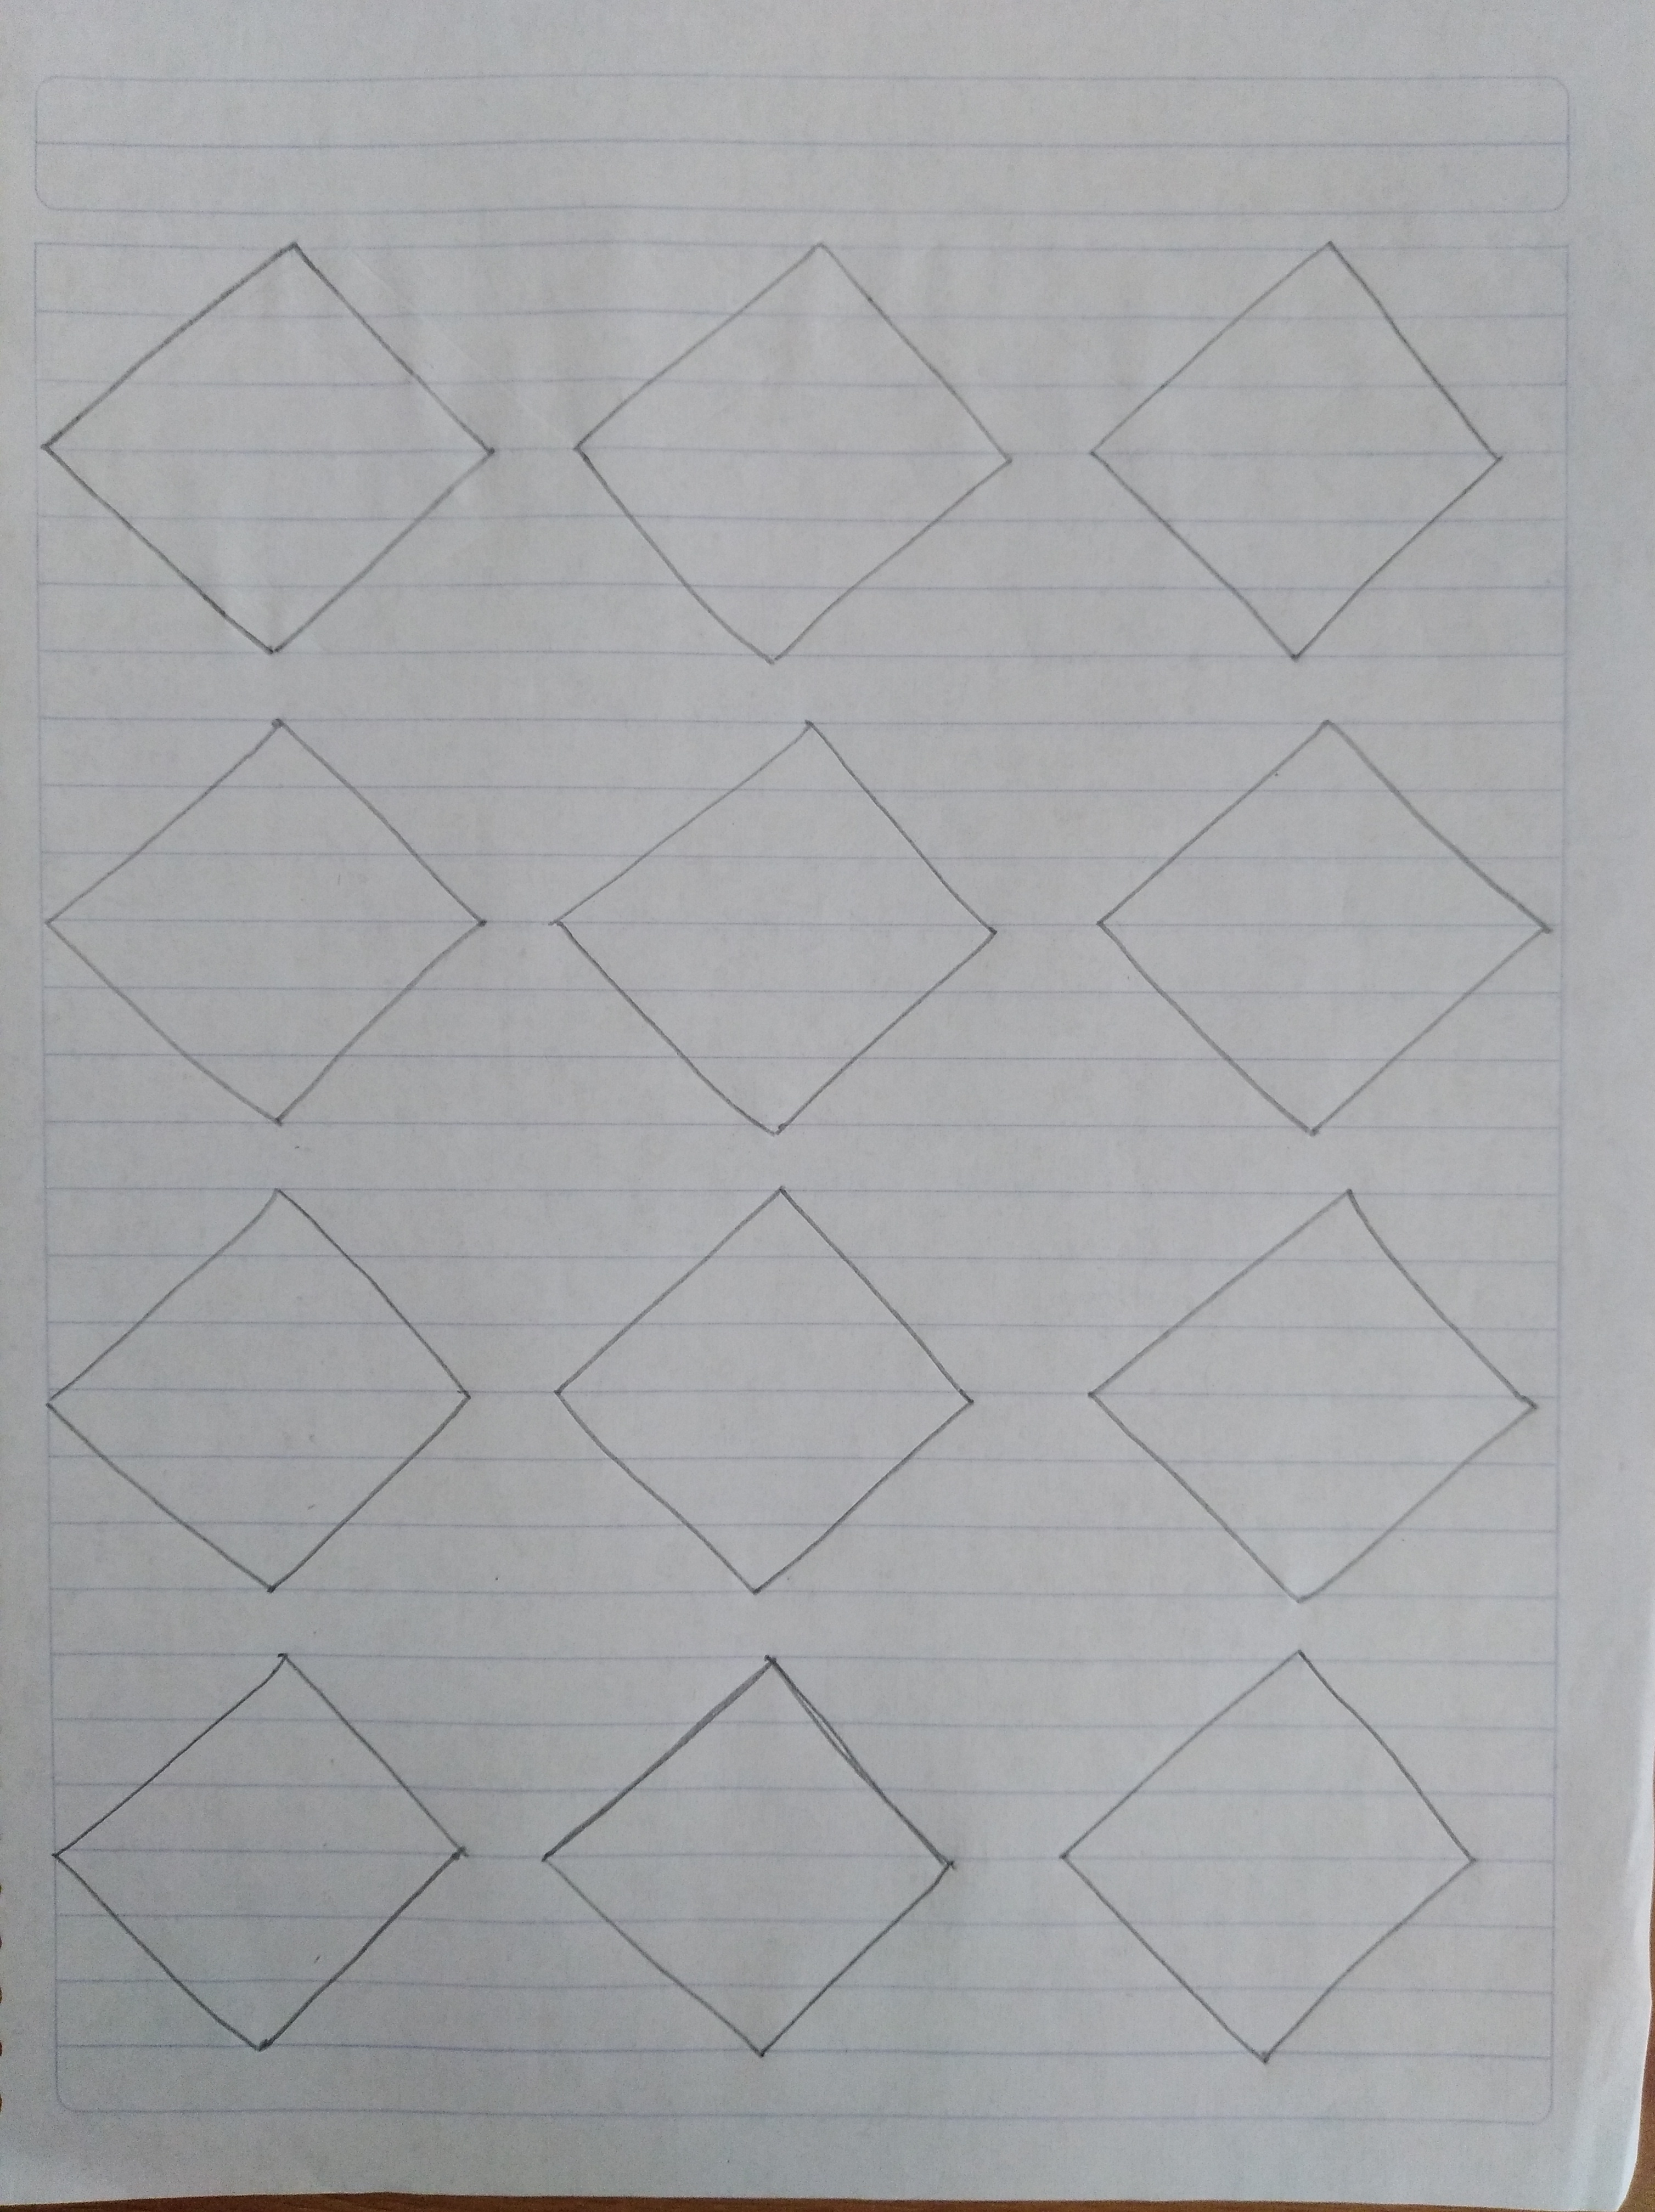decision: (549, 200, 1034, 690), (1060, 193, 1528, 688), (30, 205, 516, 679), (1055, 1173, 1559, 1616), (1071, 707, 1565, 1150), (1034, 1635, 1518, 2082), (26, 702, 506, 1143), (33, 1173, 509, 1609), (532, 1178, 1000, 1618), (534, 709, 1007, 1142), (515, 1637, 970, 2071), (38, 1639, 483, 2073)
